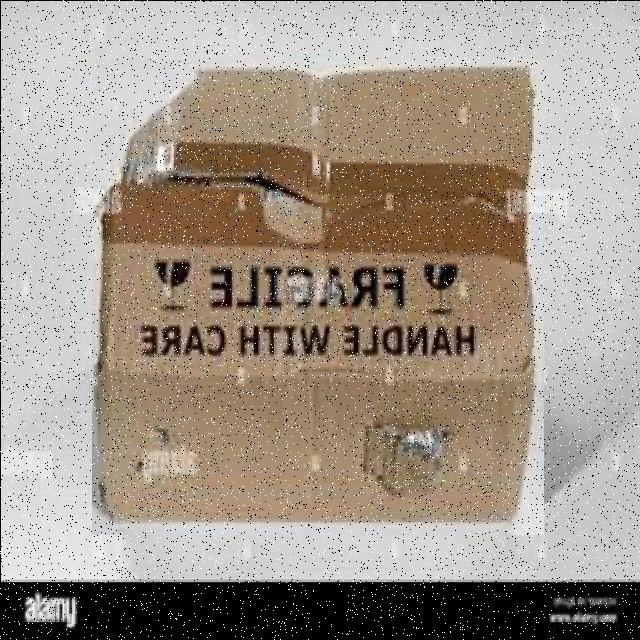defect: (91, 58, 543, 534)
